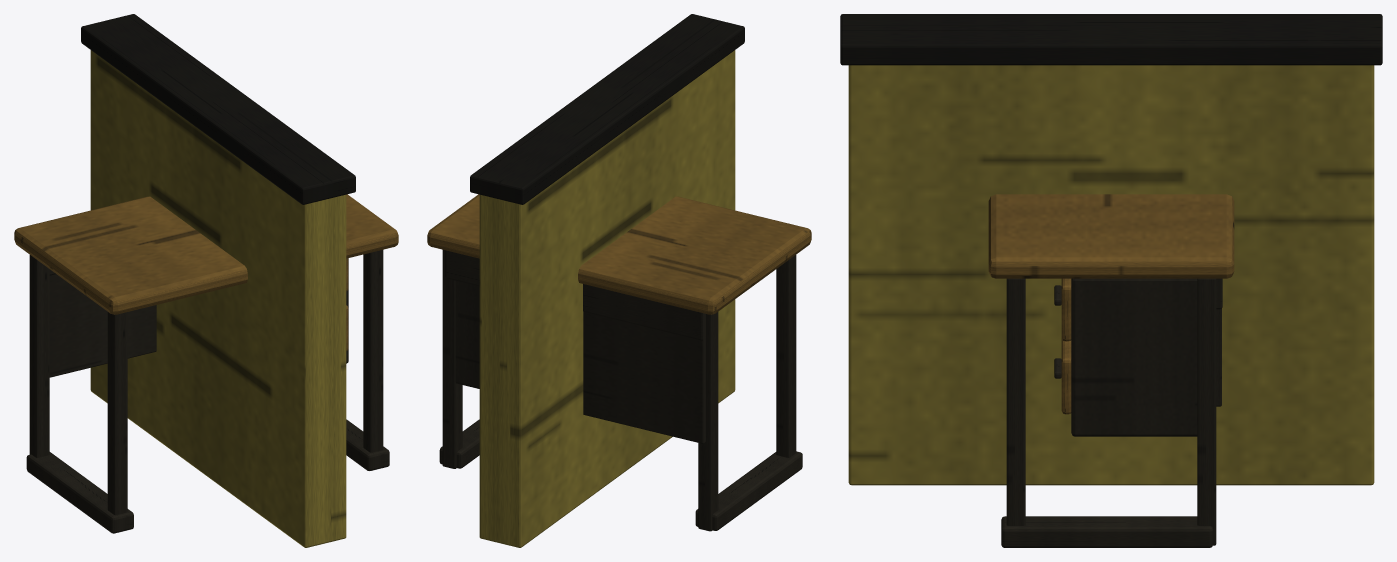
Rendered from half-wall-bisected-desk.glb.
3 renders of one model, left to right at view 1: azimuth 30°, elevation 25°; view 2: azimuth 150°, elevation 25°; view 3: azimuth 270°, elevation 25°, orthographic. The views are drawn at different scales.
Visible parts, largest first — view 1: SM_backrooms_half_wall_bisected_desk_AnomalyAgedWallpaper, SM_backrooms_half_wall_bisected_desk_DeskOxidizedMetal, SM_backrooms_half_wall_bisected_desk_WornDeskLaminate, SM_backrooms_half_wall_bisected_desk_AnomalyDarkMetal; view 2: SM_backrooms_half_wall_bisected_desk_AnomalyAgedWallpaper, SM_backrooms_half_wall_bisected_desk_DeskOxidizedMetal, SM_backrooms_half_wall_bisected_desk_WornDeskLaminate, SM_backrooms_half_wall_bisected_desk_AnomalyDarkMetal; view 3: SM_backrooms_half_wall_bisected_desk_AnomalyAgedWallpaper, SM_backrooms_half_wall_bisected_desk_DeskOxidizedMetal, SM_backrooms_half_wall_bisected_desk_AnomalyDarkMetal, SM_backrooms_half_wall_bisected_desk_WornDeskLaminate.
Part boxes in pixels (box(x1,y1,x2,y2)): SM_backrooms_half_wall_bisected_desk_AnomalyAgedWallpaper: box(90, 50, 346, 547); SM_backrooms_half_wall_bisected_desk_DeskOxidizedMetal: box(26, 250, 389, 533); SM_backrooms_half_wall_bisected_desk_WornDeskLaminate: box(14, 194, 398, 350); SM_backrooms_half_wall_bisected_desk_AnomalyDarkMetal: box(81, 14, 355, 204); SM_backrooms_half_wall_bisected_desk_AnomalyAgedWallpaper: box(479, 50, 735, 547); SM_backrooms_half_wall_bisected_desk_DeskOxidizedMetal: box(439, 250, 802, 531); SM_backrooms_half_wall_bisected_desk_WornDeskLaminate: box(427, 194, 811, 314); SM_backrooms_half_wall_bisected_desk_AnomalyDarkMetal: box(470, 14, 744, 204); SM_backrooms_half_wall_bisected_desk_AnomalyAgedWallpaper: box(848, 65, 1374, 485); SM_backrooms_half_wall_bisected_desk_DeskOxidizedMetal: box(1001, 278, 1222, 547); SM_backrooms_half_wall_bisected_desk_AnomalyDarkMetal: box(840, 14, 1382, 65); SM_backrooms_half_wall_bisected_desk_WornDeskLaminate: box(988, 194, 1234, 414).
Size of the model in its own units: 0.96 by 1.16 by 1.28.
Materials: 4 (4 with a texture image).
